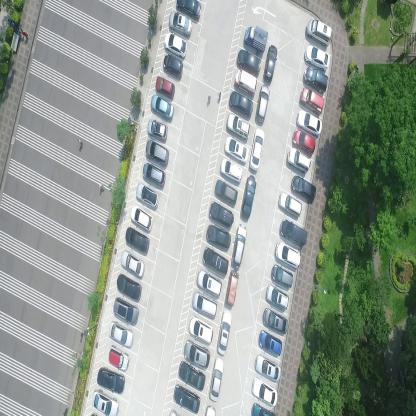car: (278, 216, 308, 246), (178, 360, 206, 392), (173, 382, 201, 414), (96, 365, 126, 394), (251, 376, 278, 408), (119, 248, 146, 279), (184, 338, 210, 370), (254, 353, 281, 383), (202, 245, 229, 275), (187, 315, 214, 345), (112, 296, 139, 326), (306, 17, 332, 48), (296, 108, 323, 137), (261, 306, 288, 335), (91, 388, 120, 415), (124, 226, 150, 256), (108, 320, 134, 350), (249, 127, 266, 172), (240, 175, 257, 220), (303, 64, 329, 93), (216, 310, 232, 357), (300, 85, 325, 115), (291, 174, 316, 204), (209, 198, 234, 228), (231, 224, 248, 268), (209, 358, 225, 404), (304, 44, 330, 72), (275, 240, 301, 268), (224, 135, 249, 164), (116, 273, 141, 302), (236, 48, 261, 76), (197, 269, 222, 297), (292, 127, 316, 156), (287, 145, 311, 174), (244, 24, 268, 53), (150, 93, 174, 122), (145, 139, 169, 168), (130, 203, 153, 233), (107, 343, 130, 373), (277, 191, 302, 218), (206, 222, 231, 249), (192, 291, 217, 318), (265, 283, 289, 311), (229, 90, 253, 118), (226, 112, 250, 140), (214, 178, 238, 206), (135, 182, 159, 210), (234, 68, 257, 97), (219, 156, 243, 183), (168, 11, 192, 38), (163, 31, 187, 58), (141, 162, 165, 188), (259, 329, 282, 356), (263, 44, 278, 84), (255, 85, 270, 125), (271, 264, 294, 290), (162, 53, 184, 80), (176, 0, 202, 22), (224, 271, 239, 308), (147, 118, 168, 143), (155, 75, 176, 99), (250, 402, 276, 416)
